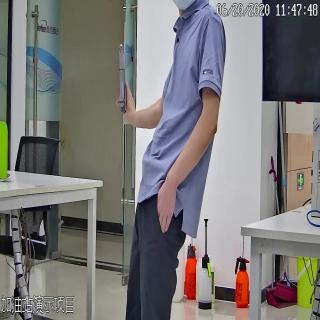gun: (114, 41, 132, 129)
